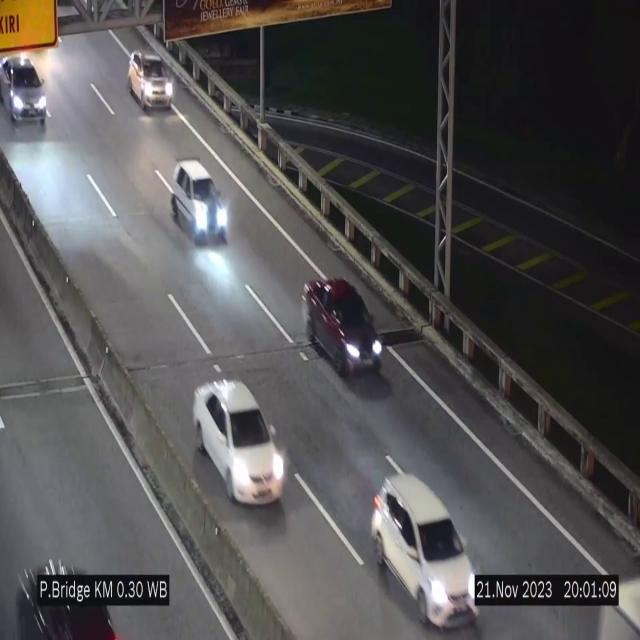Car: (371, 474, 476, 625), (193, 380, 286, 504), (13, 556, 127, 640), (302, 277, 384, 375), (171, 160, 229, 242), (0, 56, 47, 128), (128, 51, 172, 112)
